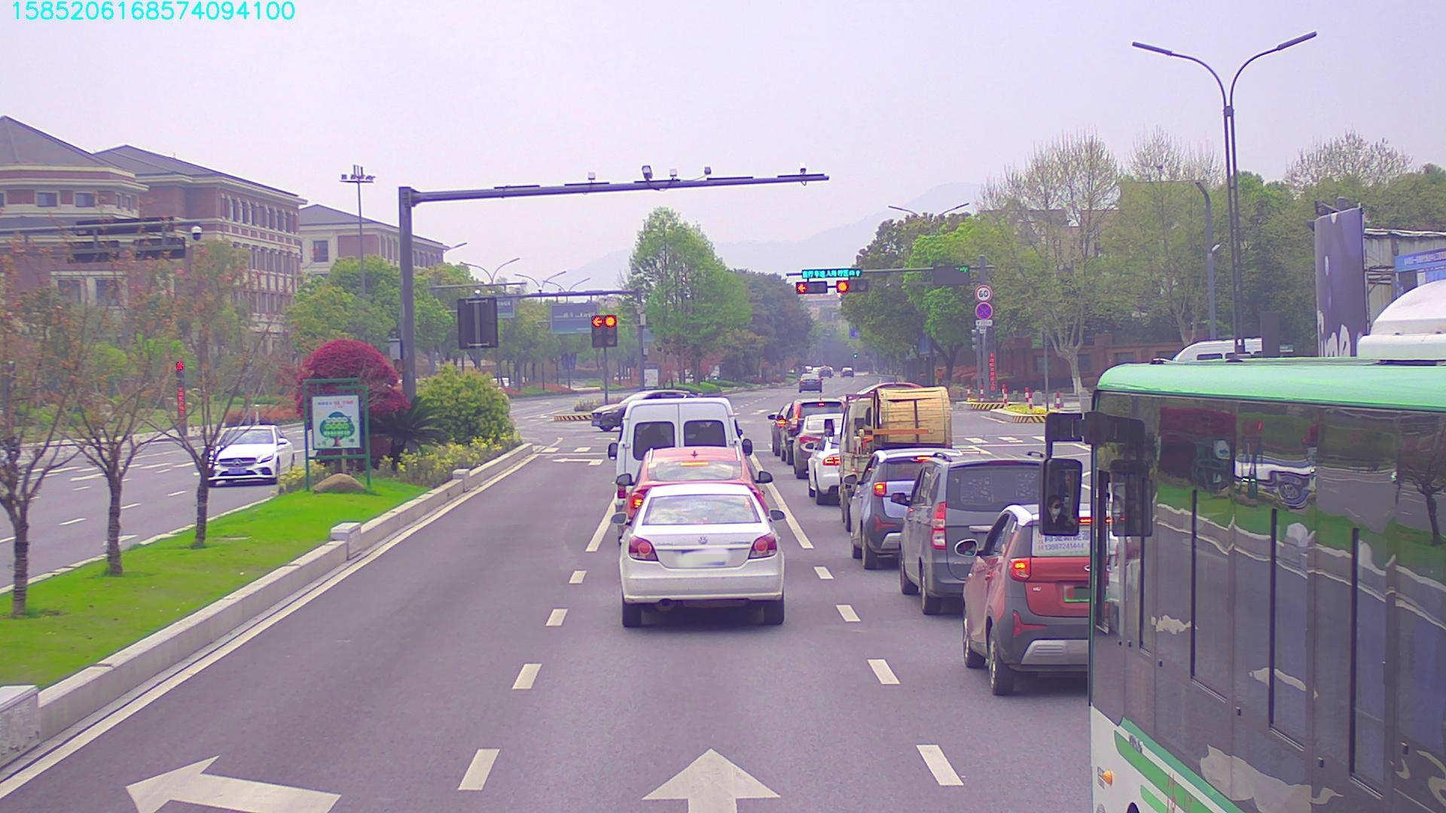red: (797, 279, 830, 297), (837, 280, 874, 292)
wait_on: (802, 268, 862, 278)
